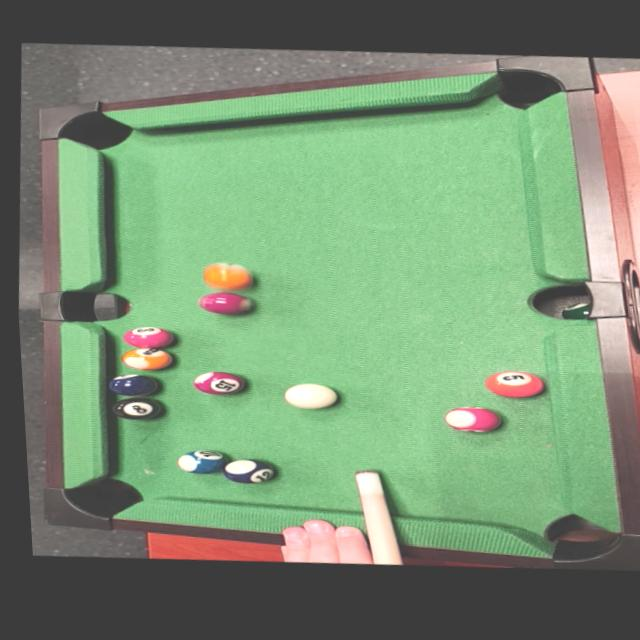cue ball: (279, 377, 342, 412)
other: (439, 401, 506, 437), (479, 366, 547, 401), (200, 255, 258, 294), (218, 454, 281, 487), (194, 287, 258, 319), (106, 368, 166, 399), (190, 366, 247, 397), (122, 343, 177, 375), (171, 444, 227, 475), (105, 393, 166, 421), (120, 322, 177, 350)
